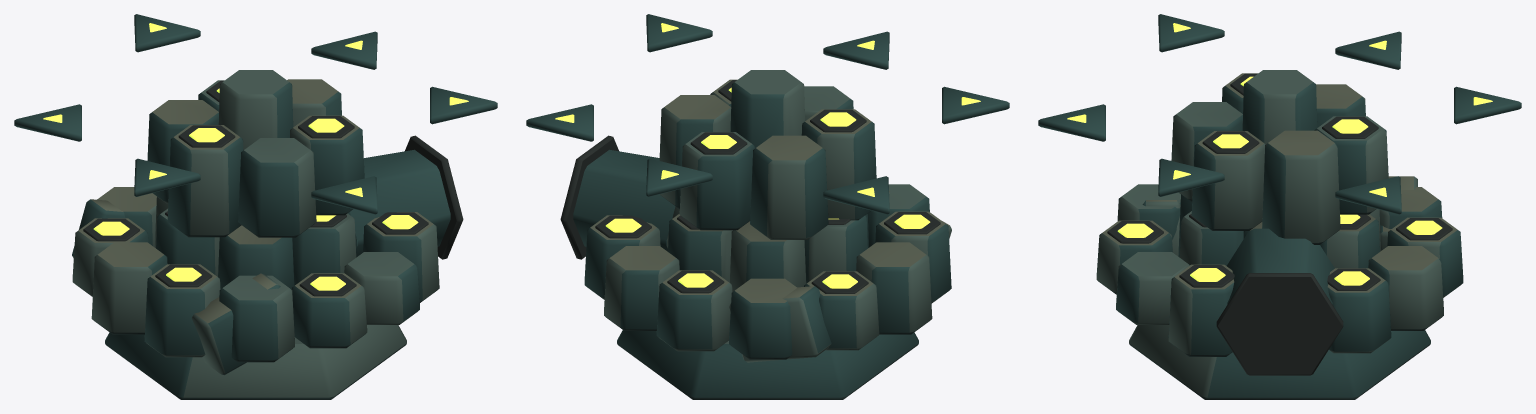
Rendered from warden_kit_hive.glb.
The picture shows the model from 3 angles, left to right: view 1: azimuth 30°, elevation 25°; view 2: azimuth 150°, elevation 25°; view 3: azimuth 270°, elevation 25°; orthographic projection.
Parts seen in each view (by area): view 1: Body, WeakPoint, Drone2, Drone3, Drone4, Drone5, Drone0, Drone1; view 2: Body, WeakPoint, Drone0, Drone1, Drone2, Drone3, Drone4, Drone5; view 3: Body, WeakPoint, Drone0, Drone4, Drone5, Drone1, Drone2, Drone3.
Part boxes in pixels (box(x1,y1,x2,y2)): Body: box(72, 70, 439, 399); WeakPoint: box(350, 135, 463, 259); Drone2: box(14, 104, 81, 141); Drone3: box(134, 158, 200, 196); Drone4: box(311, 176, 377, 214); Drone5: box(430, 86, 497, 124); Drone0: box(311, 31, 377, 69); Drone1: box(134, 14, 200, 52); Body: box(584, 70, 951, 399); WeakPoint: box(560, 135, 675, 259); Drone0: box(526, 104, 593, 141); Drone1: box(646, 158, 712, 196); Drone2: box(823, 176, 889, 214); Drone3: box(942, 86, 1009, 124); Drone4: box(823, 31, 889, 69); Drone5: box(646, 14, 712, 52); Body: box(1096, 70, 1463, 399); WeakPoint: box(1216, 228, 1343, 375); Drone0: box(1335, 176, 1401, 214); Drone4: box(1038, 104, 1105, 141); Drone5: box(1158, 158, 1224, 196); Drone1: box(1454, 86, 1521, 124); Drone2: box(1335, 31, 1401, 69); Drone3: box(1158, 14, 1224, 52).
Bounding box in the file's own units: 4.4 × 3.04 × 5.06.
